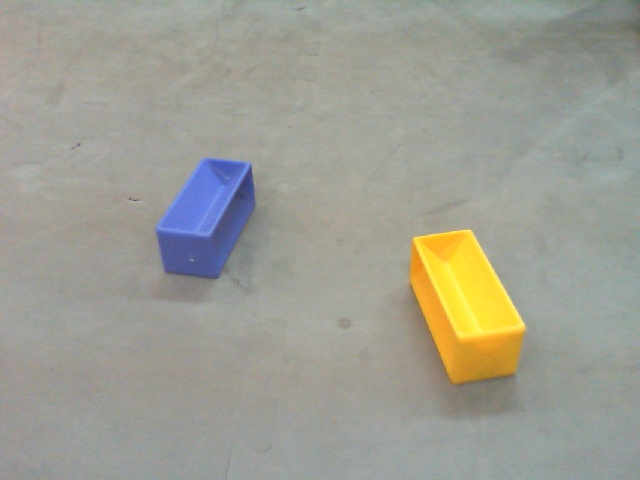BlueSample: (153, 156, 259, 290)
YellowSample: (405, 227, 527, 386)
